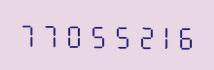five: (105, 19, 126, 50), (83, 19, 104, 49)
one: (149, 20, 170, 51)
seven: (39, 18, 60, 49), (17, 18, 38, 48)
six: (171, 21, 192, 51)
two: (127, 20, 148, 50)
zero: (61, 19, 82, 49)
